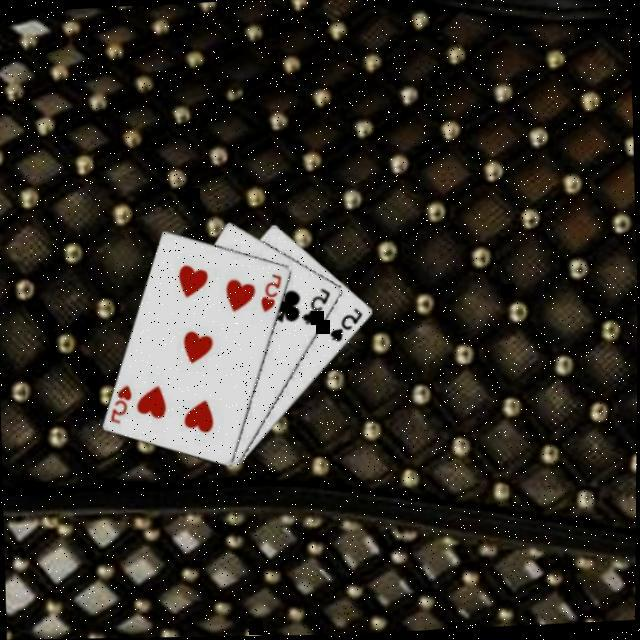5C: (298, 284, 332, 326)
5H: (256, 268, 286, 314), (106, 379, 136, 424)
5S: (326, 304, 365, 343)
